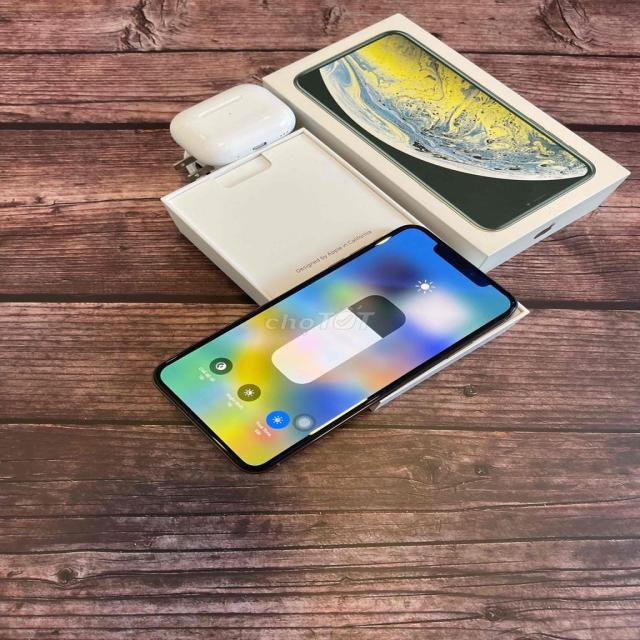gen_x_xs: (148, 224, 520, 476)
